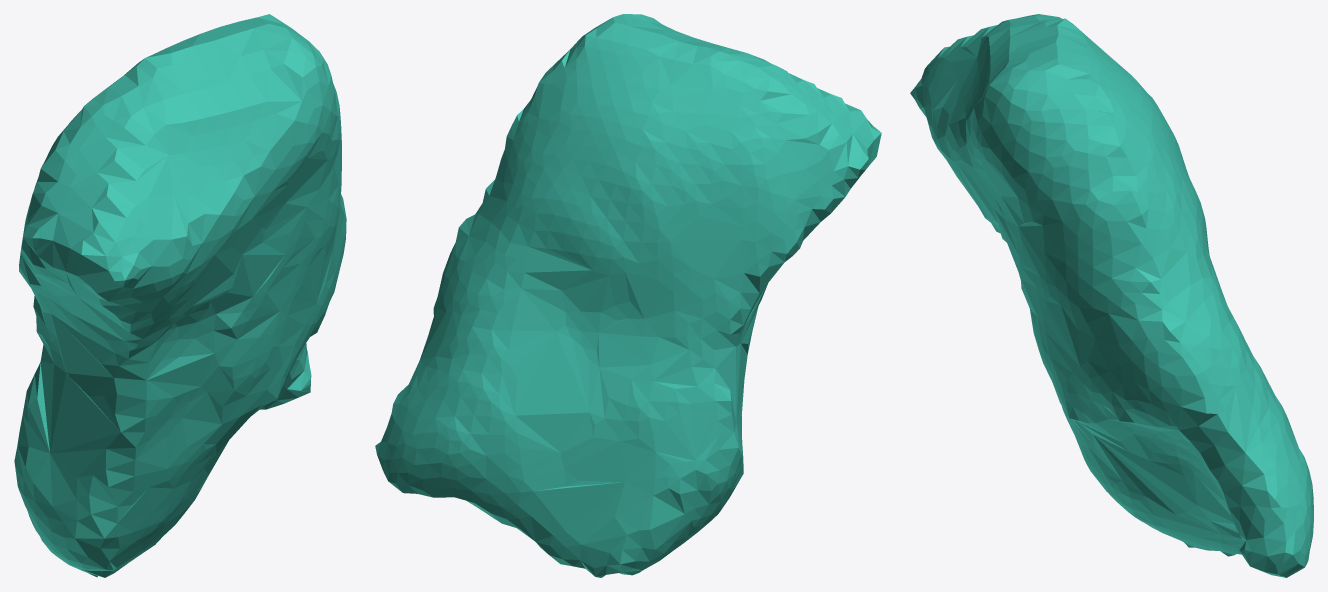
Rendered from Model_10225_LH__Substantia_nigra__reticular_part_(SNR).obj.
3 views of the same model, side by side, from view 1: azimuth 30°, elevation 25°; view 2: azimuth 150°, elevation 25°; view 3: azimuth 270°, elevation 25° (orthographic). The views are drawn at different scales.
Size of the model in its own units: 2.09 by 2.67 by 1.86.
